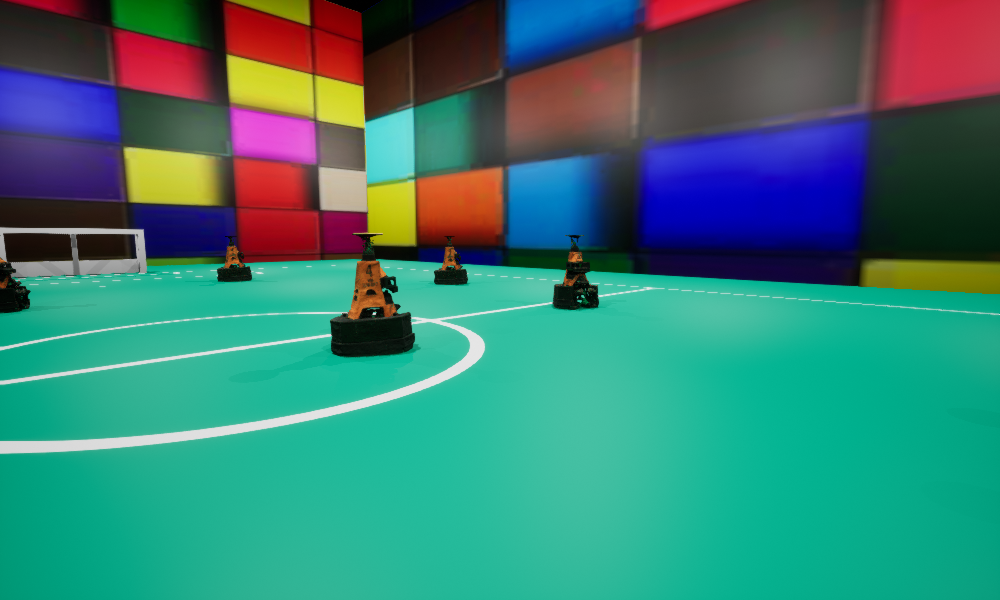o: (330, 233, 414, 356), (553, 235, 598, 309), (0, 235, 30, 312), (434, 236, 467, 284), (217, 236, 251, 281)
